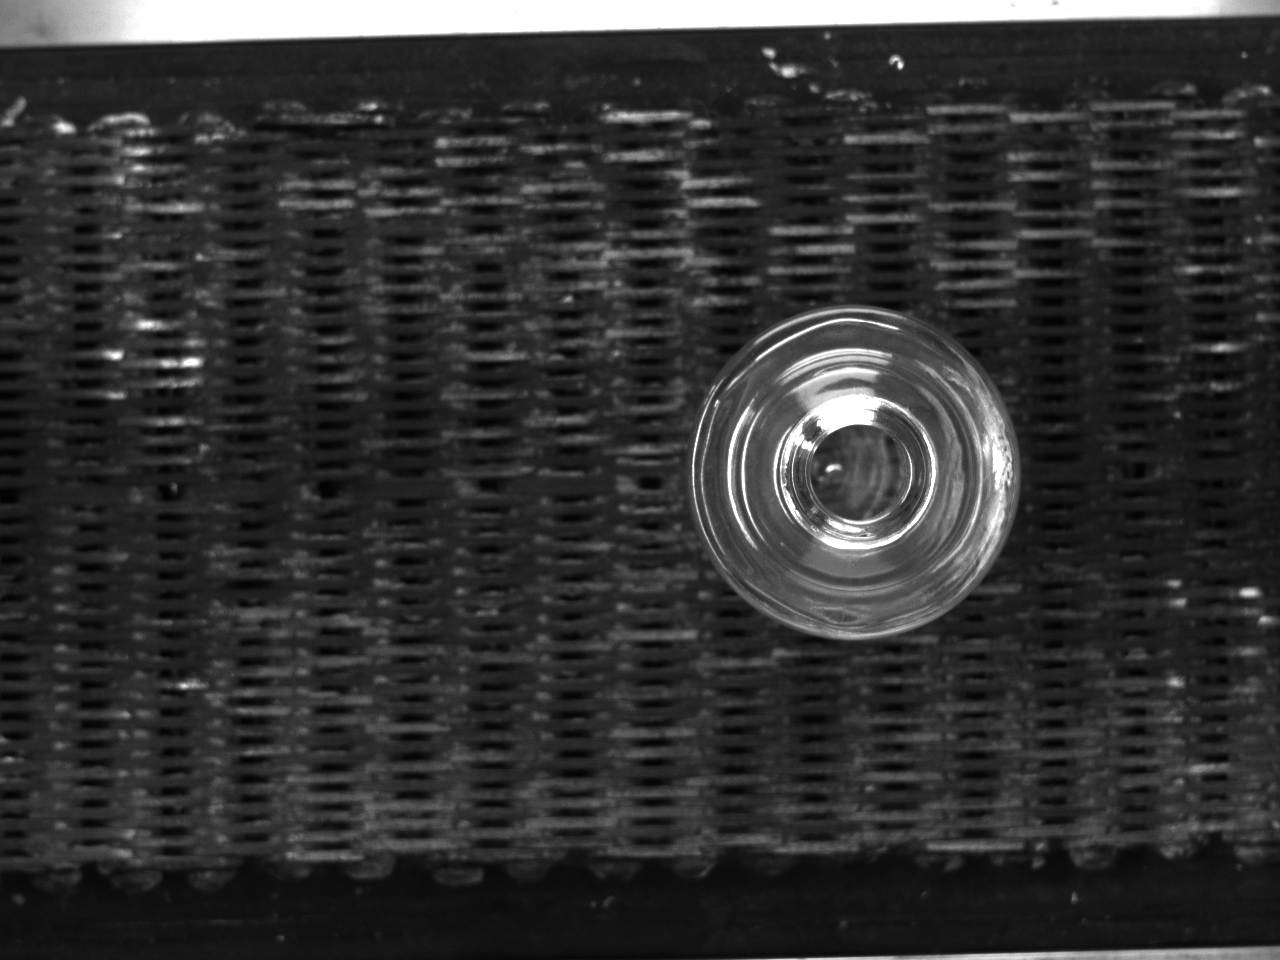bottleneck: (782, 394, 938, 550)
